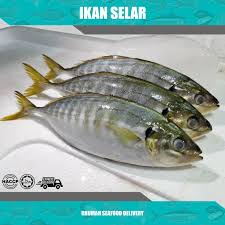Ikan Selar: (9, 97, 213, 178), (17, 57, 223, 117)
